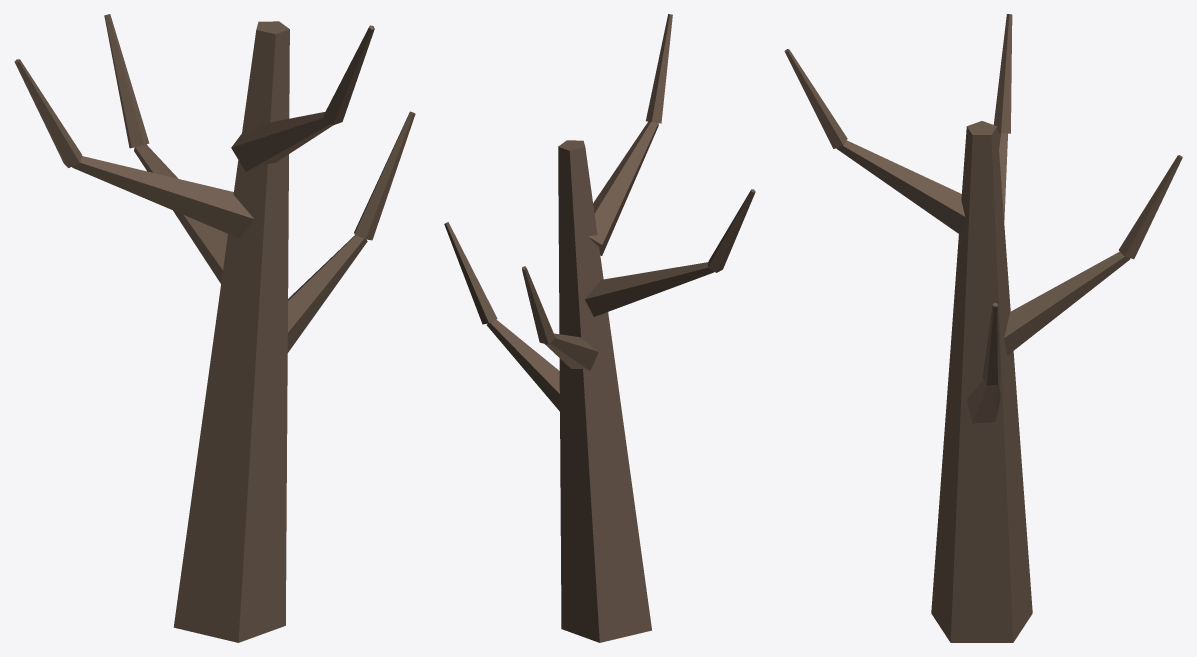
Rendered from DeadTree.fbx.
The picture shows the model from 3 angles, left to right: view 1: azimuth 30°, elevation 25°; view 2: azimuth 150°, elevation 25°; view 3: azimuth 270°, elevation 25°; orthographic projection. The views are drawn at different scales.
Visible parts, largest first — view 1: Trunk, Branch.002, Branch.003, Branch, Branch.001, Twig.001, Twig, Twig.002, Twig.003; view 2: Trunk, Branch.002, Branch.003, Branch, Branch.001, Twig.003, Twig, Twig.002, Twig.001; view 3: Trunk, Branch.003, Branch.001, Twig.002, Twig.001, Twig.003, Branch, Twig.
Part boxes in pixels (box(x1,y1,x2,y2)): Trunk: box(173, 21, 289, 642); Branch.002: box(72, 156, 254, 238); Branch.003: box(231, 111, 332, 171); Branch: box(287, 235, 367, 352); Branch.001: box(134, 144, 227, 283); Twig.001: box(104, 14, 149, 148); Twig: box(354, 111, 415, 240); Twig.002: box(14, 59, 82, 167); Twig.003: box(323, 25, 374, 125); Trunk: box(558, 140, 651, 642); Branch.002: box(585, 262, 714, 316); Branch.003: box(588, 121, 658, 255); Branch: box(486, 319, 559, 411); Branch.001: box(545, 333, 598, 370); Twig.003: box(646, 14, 672, 123); Twig: box(444, 222, 497, 324); Twig.002: box(707, 189, 755, 272); Twig.001: box(522, 266, 555, 344); Trunk: box(931, 121, 1032, 642); Branch.003: box(836, 140, 964, 235); Branch.001: box(1004, 251, 1130, 355); Twig.002: box(993, 14, 1012, 133); Twig.001: box(1119, 155, 1182, 259); Twig.003: box(784, 49, 847, 148); Branch: box(966, 379, 1000, 423); Twig: box(982, 302, 1000, 385).
Size of the model in its own units: 1.87 by 3.05 by 1.87.
